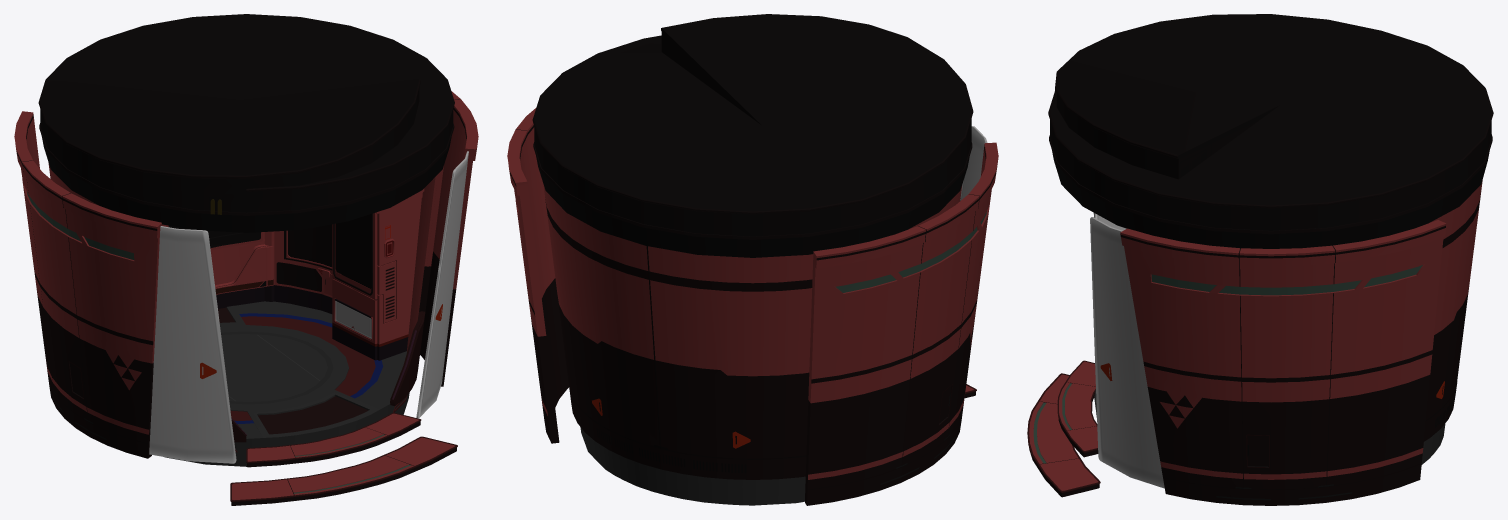
File: W_O_Mobilestore_002_L0.fbx
3 renders of one model, left to right at view 1: azimuth 30°, elevation 25°; view 2: azimuth 150°, elevation 25°; view 3: azimuth 270°, elevation 25°, orthographic. The views are drawn at different scales.
Parts seen in each view (by area): view 1: W_O_Mobilestore_002_L0; view 2: W_O_Mobilestore_002_L0; view 3: W_O_Mobilestore_002_L0.
Part boxes in pixels (x1,y1,x2,y2): W_O_Mobilestore_002_L0: [14, 14, 478, 505]; W_O_Mobilestore_002_L0: [507, 14, 998, 505]; W_O_Mobilestore_002_L0: [1027, 14, 1493, 505].
Bounding box in the file's own units: 6.03 × 4.7 × 5.66.
